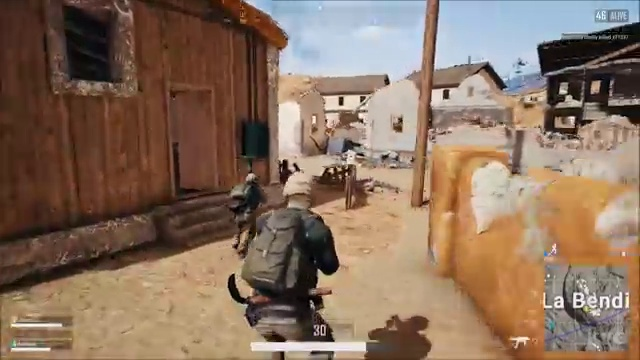Player: (234, 171, 351, 322)
